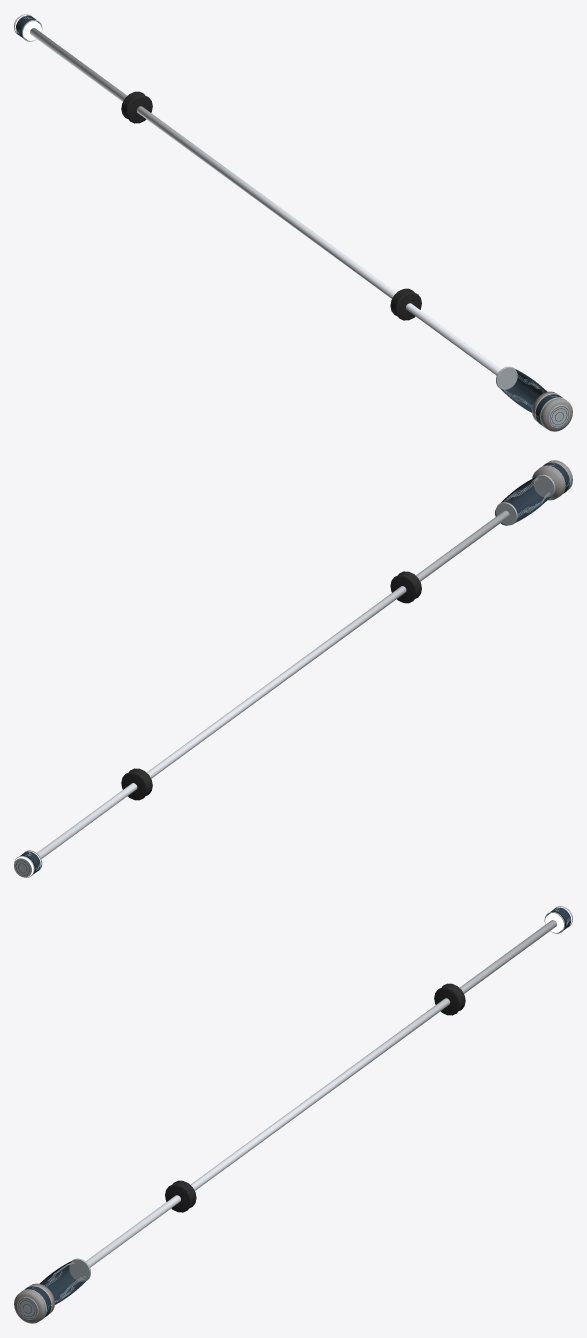
Rendered from fuzeball_rod_5man.glb.
3 views of the same model, one above another, from view 1: azimuth 30°, elevation 25°; view 2: azimuth 150°, elevation 25°; view 3: azimuth 330°, elevation 25° (orthographic).
Parts seen in each view (by area): view 1: rod5_bar.002, rod5_handle_silver_grip, CylinderR, CylinderL, rod5_knob.002; view 2: rod5_bar.002, rod5_handle_silver_grip, CylinderL, CylinderR, rod5_knob.002; view 3: rod5_bar.002, rod5_handle_silver_grip, CylinderR, CylinderL, rod5_knob.002.
Boxes of the visible parts, x1,y1,x2,y2 form: rod5_bar.002: (30, 28, 500, 375); rod5_handle_silver_grip: (500, 368, 547, 412); CylinderR: (121, 91, 152, 123); CylinderL: (390, 288, 421, 320); rod5_knob.002: (532, 391, 572, 431); rod5_bar.002: (37, 510, 509, 858); rod5_handle_silver_grip: (495, 476, 551, 525); CylinderL: (390, 571, 421, 603); CylinderR: (121, 768, 152, 800); rod5_knob.002: (532, 460, 572, 500); rod5_bar.002: (86, 920, 556, 1267); rod5_handle_silver_grip: (39, 1260, 86, 1304); CylinderR: (434, 983, 465, 1015); CylinderL: (165, 1180, 196, 1212); rod5_knob.002: (14, 1283, 54, 1323).
Size of the model in its own units: 3.45 by 3.45 by 106.
